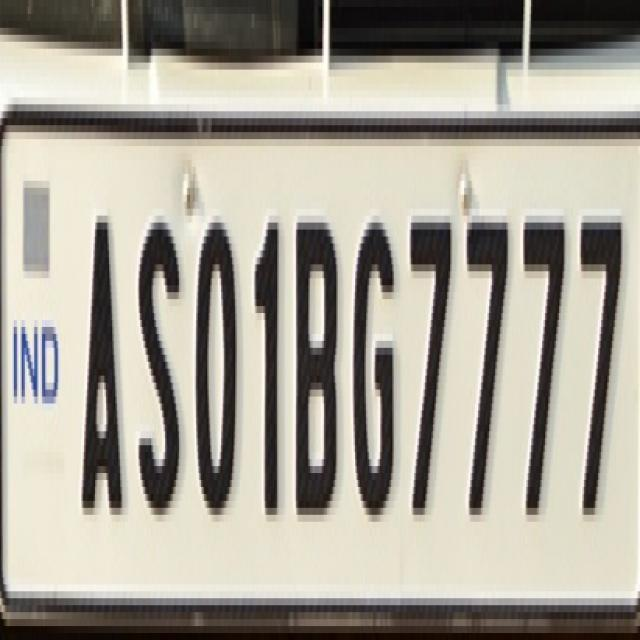0: (192, 200, 240, 524)
1: (247, 192, 283, 545)
7: (403, 188, 455, 550), (518, 192, 570, 552), (460, 183, 512, 531), (576, 192, 622, 542)
A: (72, 189, 126, 538)
B: (292, 192, 342, 554)
G: (346, 189, 400, 531)
S: (132, 192, 180, 524)
